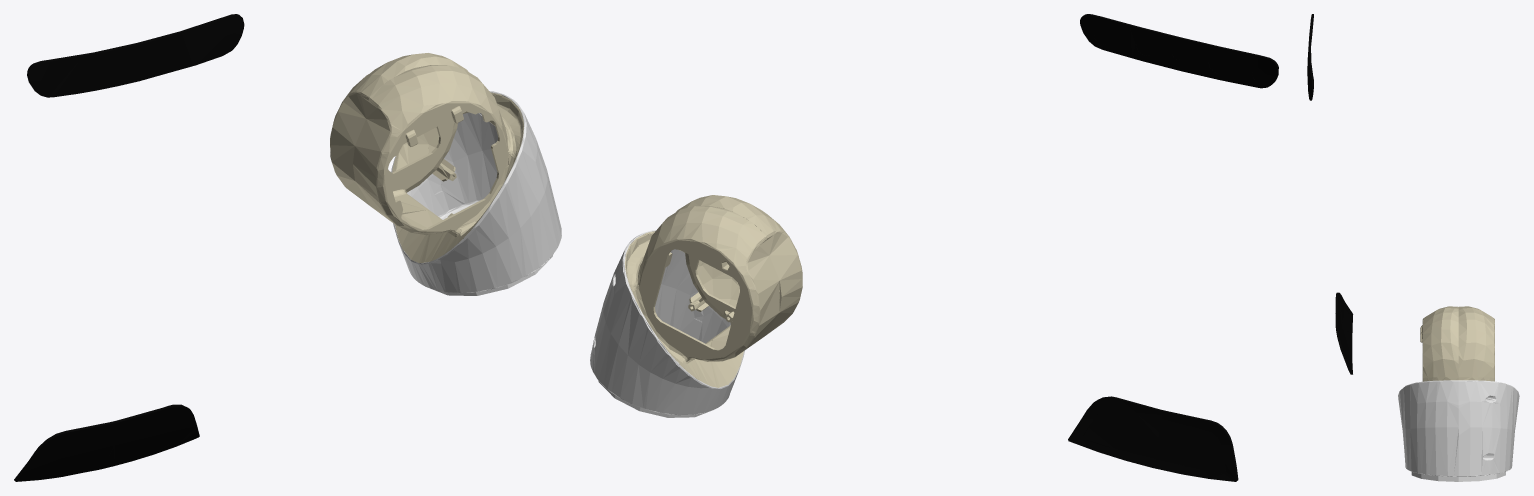
File: walker_left_lower_arm_1.dae
3 views of the same model, side by side, from view 1: azimuth 30°, elevation 25°; view 2: azimuth 150°, elevation 25°; view 3: azimuth 270°, elevation 25° (orthographic). The views are drawn at different scales.
Visible parts, largest first — view 1: Shape_IndexedFaceSet_183, Shape_IndexedFaceSet_184, Shape_IndexedFaceSet_232; view 2: Shape_IndexedFaceSet_183, Shape_IndexedFaceSet_232, Shape_IndexedFaceSet_184; view 3: Shape_IndexedFaceSet_184, Shape_IndexedFaceSet_183, Shape_IndexedFaceSet_232.
Boxes of the visible parts, x1,y1,x2,y2 form: Shape_IndexedFaceSet_183: [330, 53, 524, 263]; Shape_IndexedFaceSet_184: [391, 91, 561, 295]; Shape_IndexedFaceSet_232: [14, 14, 244, 481]; Shape_IndexedFaceSet_183: [624, 195, 802, 387]; Shape_IndexedFaceSet_232: [1068, 14, 1278, 481]; Shape_IndexedFaceSet_184: [590, 230, 744, 417]; Shape_IndexedFaceSet_184: [1398, 380, 1519, 481]; Shape_IndexedFaceSet_183: [1420, 306, 1494, 381]; Shape_IndexedFaceSet_232: [1307, 14, 1353, 374].
Bounding box in the file's own units: 0.4419 × 0.1908 × 0.3004.
